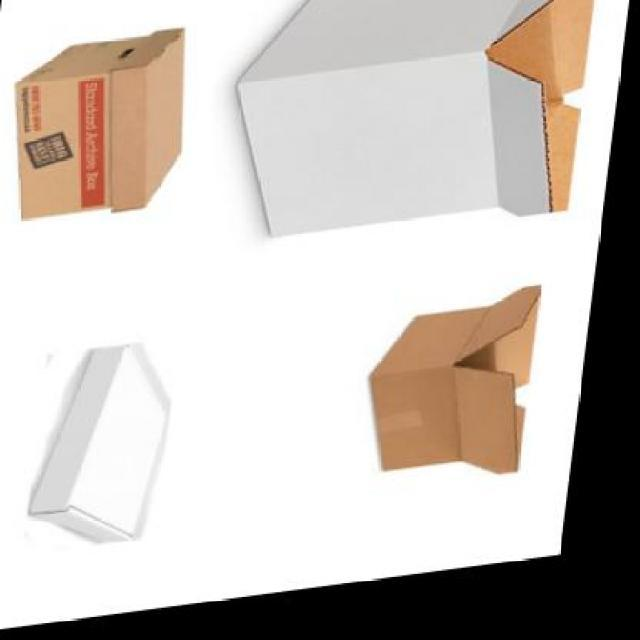box: (223, 0, 601, 253), (3, 32, 199, 230), (370, 317, 548, 488), (42, 348, 186, 552)
